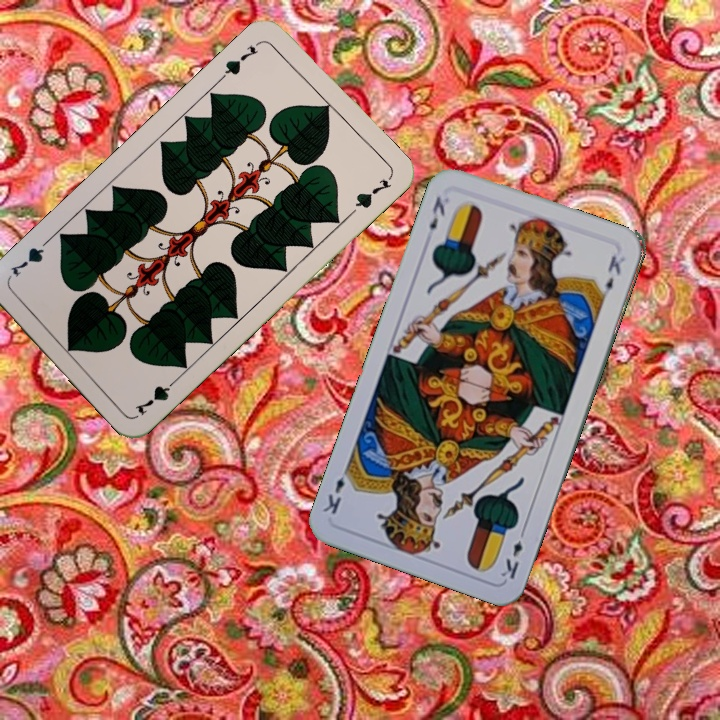EK: (496, 524, 528, 582), (425, 192, 448, 233)
G7: (130, 373, 182, 418), (217, 42, 262, 82)
